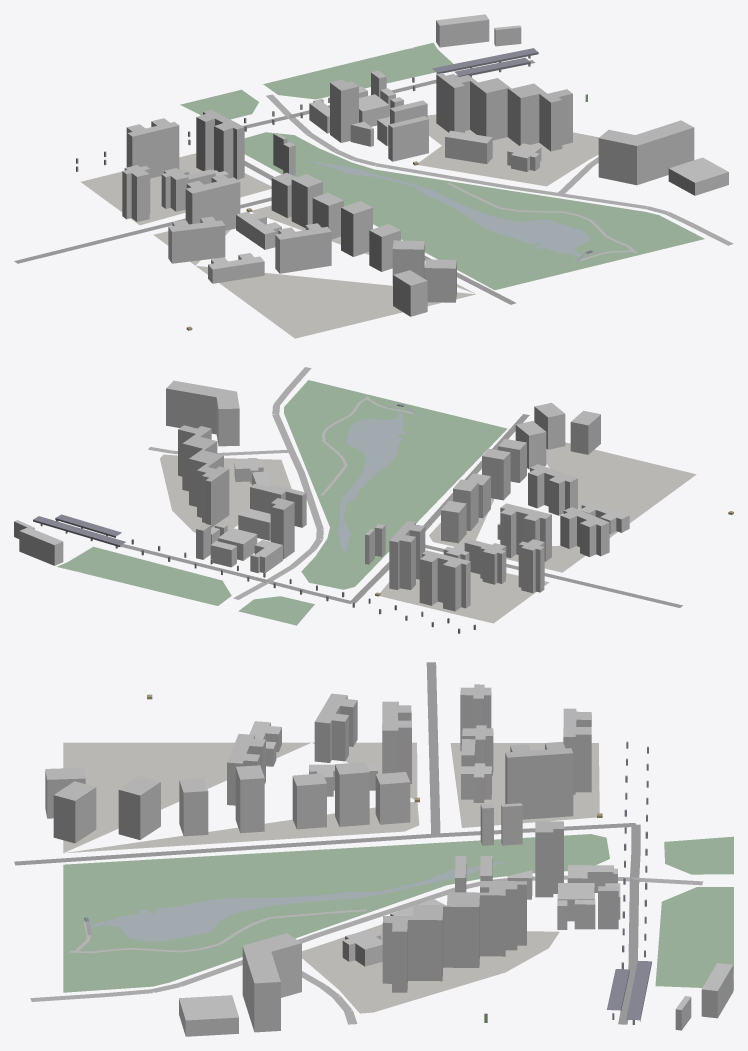
3 renders of one model, top to bottom at view 1: azimuth 30°, elevation 25°; view 2: azimuth 150°, elevation 25°; view 3: azimuth 270°, elevation 25°, orthographic. The views are drawn at different scales.
Bounding box in the file's own units: 660 × 53.62 × 537.
